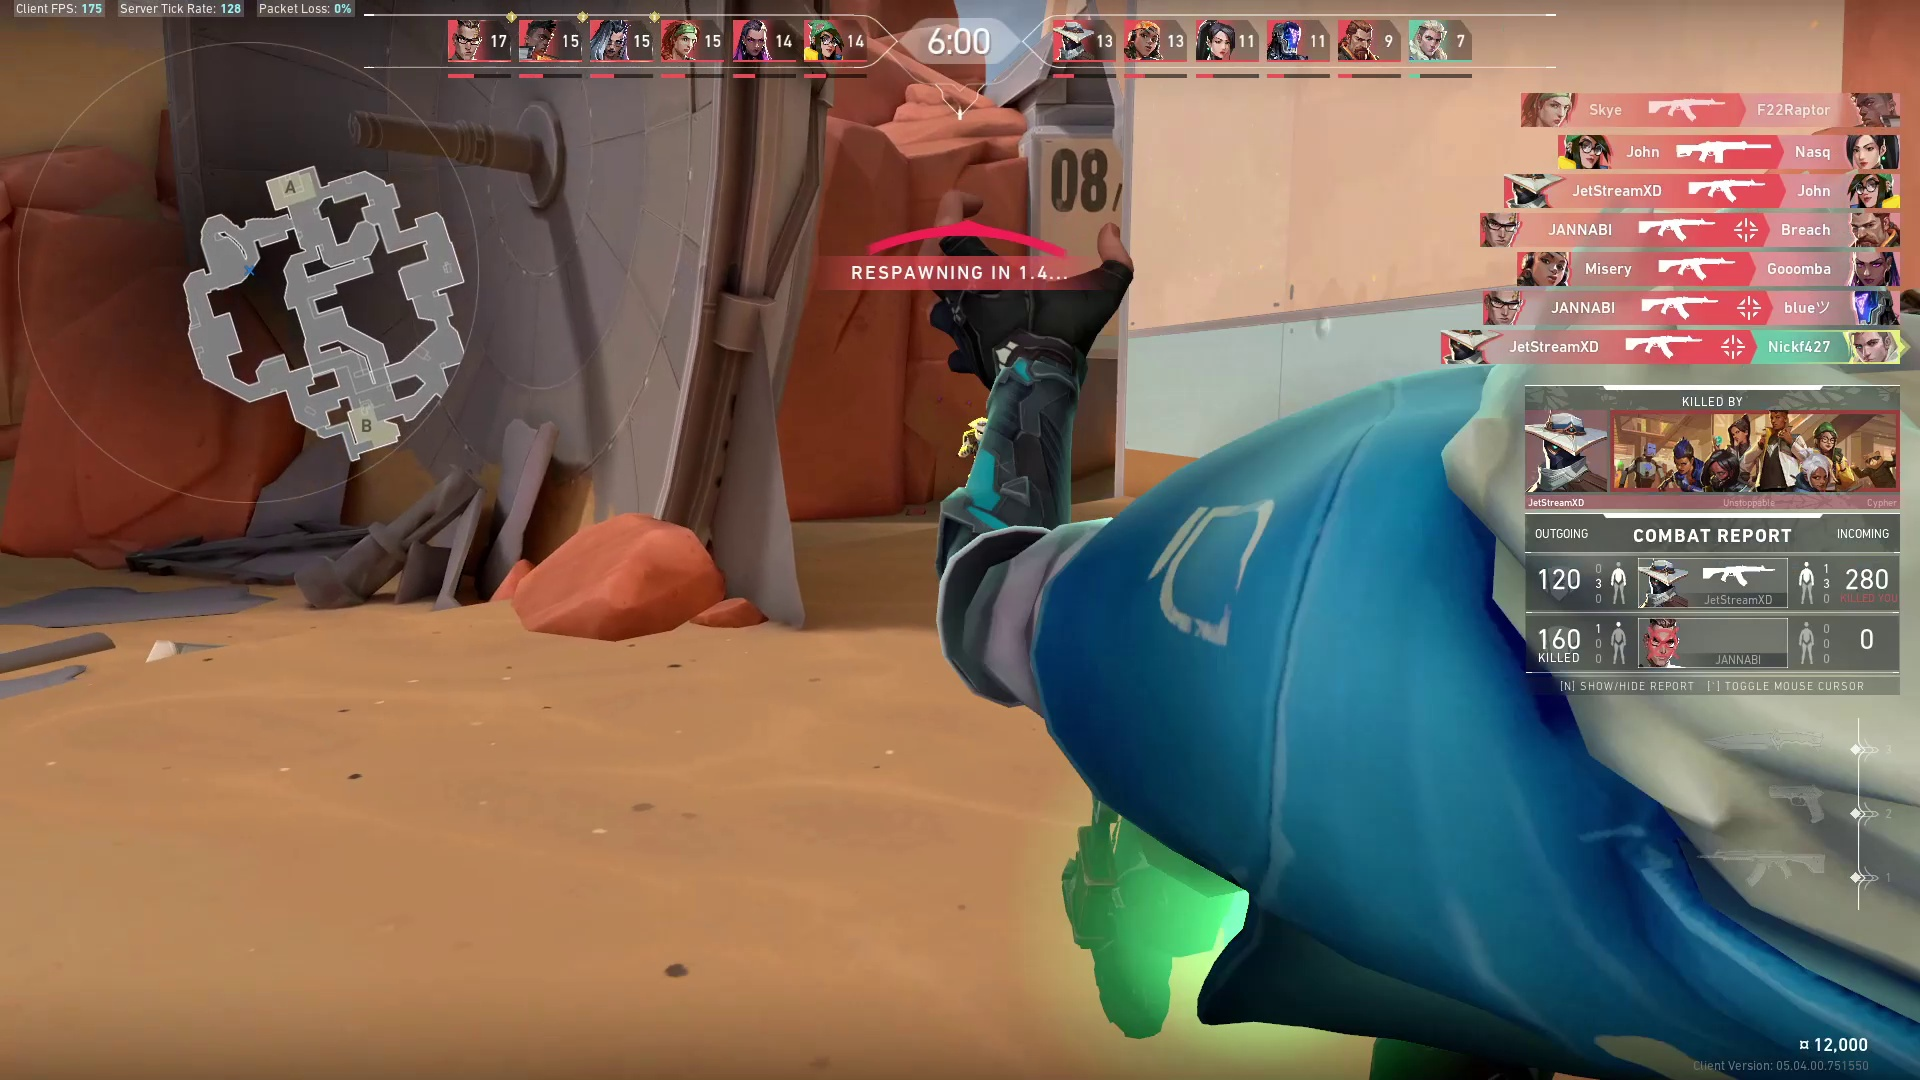enemy_gen: (957, 414, 989, 464)
